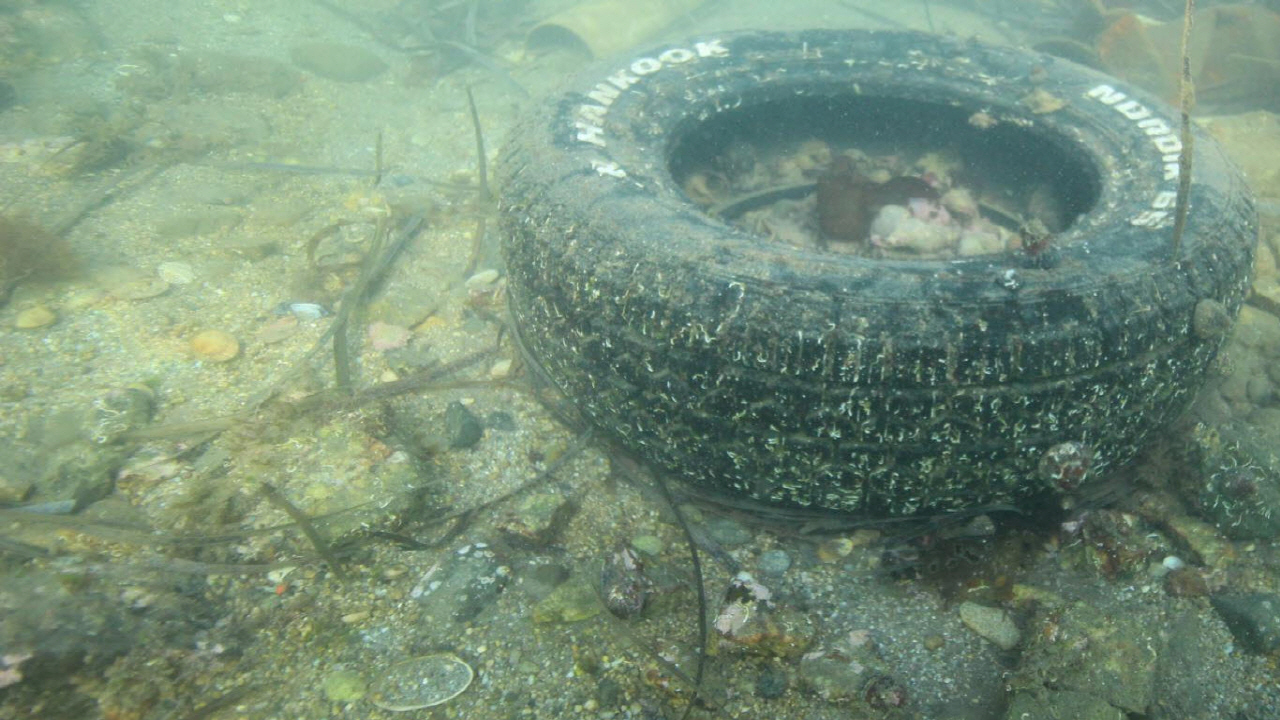tire: (493, 27, 1259, 524)
